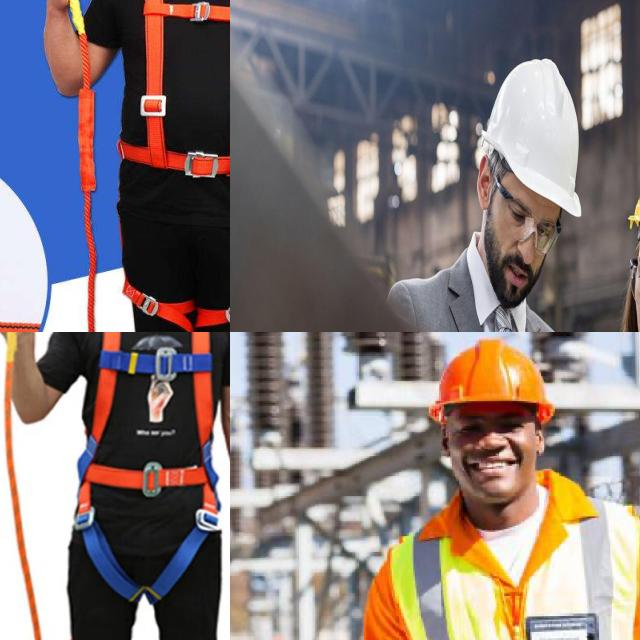Harness: (73, 332, 226, 611), (120, 0, 230, 327)
No_Ear-Protection: (477, 152, 493, 212), (441, 425, 451, 458), (536, 426, 545, 453)
No_Glasses: (452, 414, 530, 436)
face_nomask: (451, 434, 537, 501)
head_helmet: (429, 339, 554, 423)
